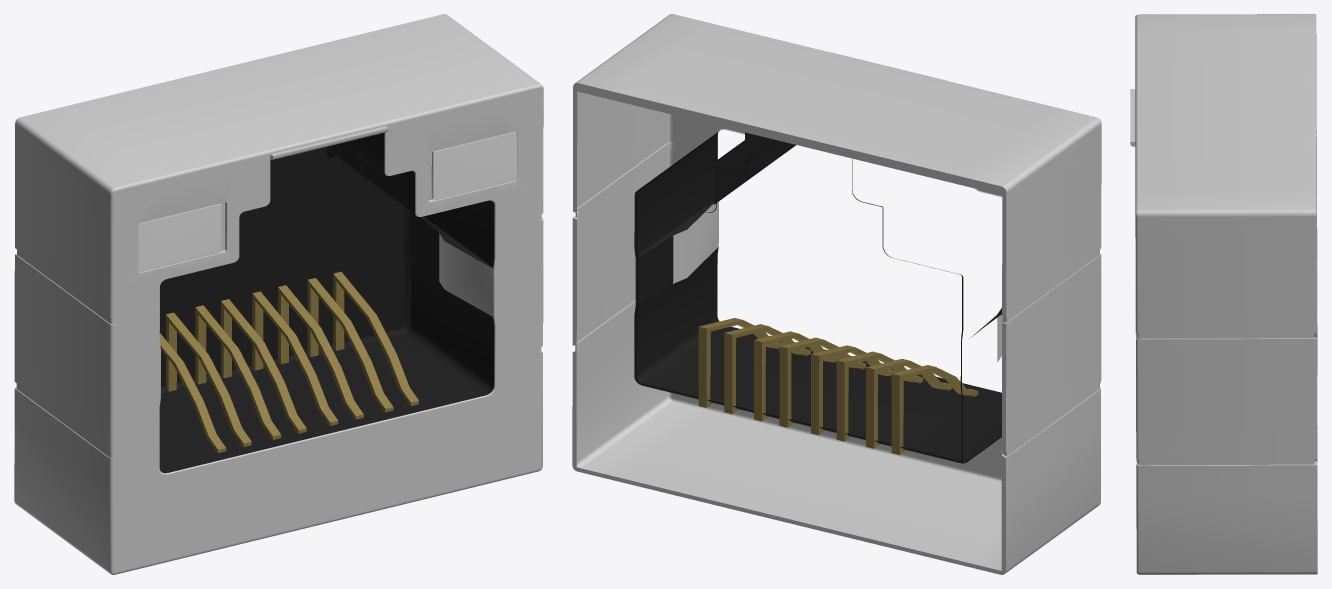
The model's file is LanFemale.fbx.
The picture shows the model from 3 angles, left to right: view 1: azimuth 30°, elevation 25°; view 2: azimuth 150°, elevation 25°; view 3: azimuth 270°, elevation 25°; orthographic projection. The views are drawn at different scales.
Parts seen in each view (by area): view 1: Circle.001; view 2: Circle.001; view 3: Circle.001.
Part boxes in pixels (x1,y1,x2,y2): Circle.001: (14, 14, 543, 574); Circle.001: (572, 14, 1101, 574); Circle.001: (1130, 14, 1317, 574).
Size of the model in its own units: 1.63 by 1.4 by 0.6493.
